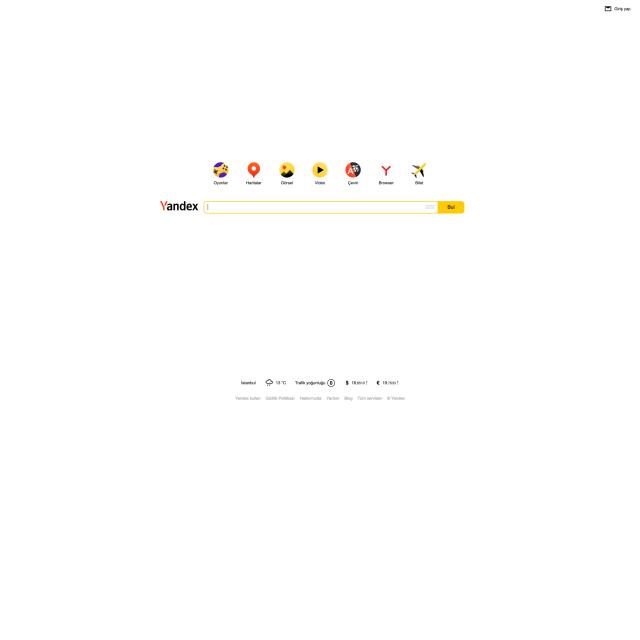input: (202, 200, 465, 216)
logo: (159, 200, 199, 213)
navigation: (208, 160, 432, 187)
